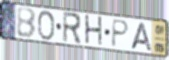A: (129, 22, 153, 53)
B: (16, 8, 37, 40)
H: (84, 14, 104, 49)
O: (37, 10, 56, 42)
P: (110, 19, 130, 49)
R: (62, 12, 82, 47)
